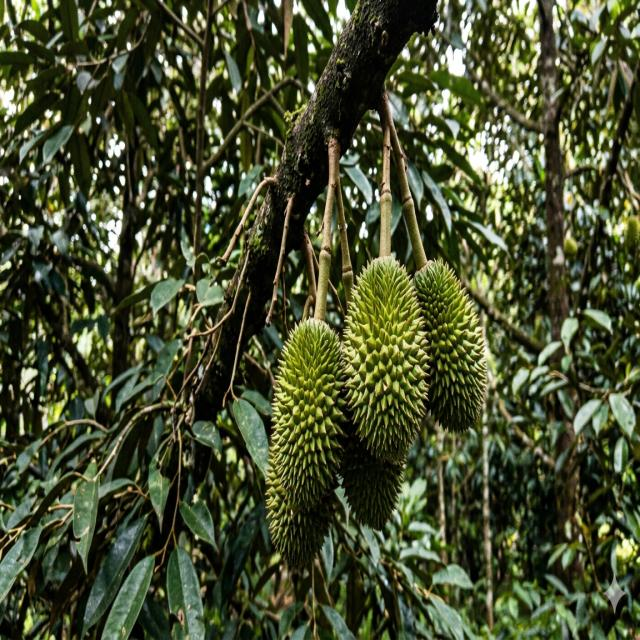immature: (264, 315, 348, 560), (338, 254, 432, 467), (412, 257, 489, 433)
